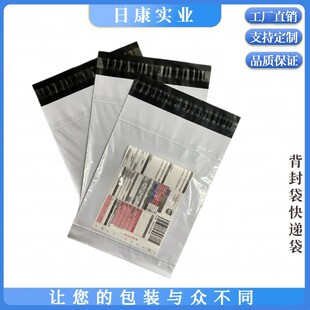Parcel: (49, 57, 242, 279), (82, 51, 210, 187), (32, 50, 107, 175)
